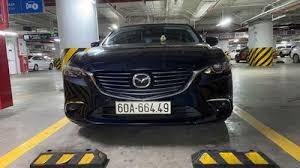mazda: (129, 67, 162, 91)
